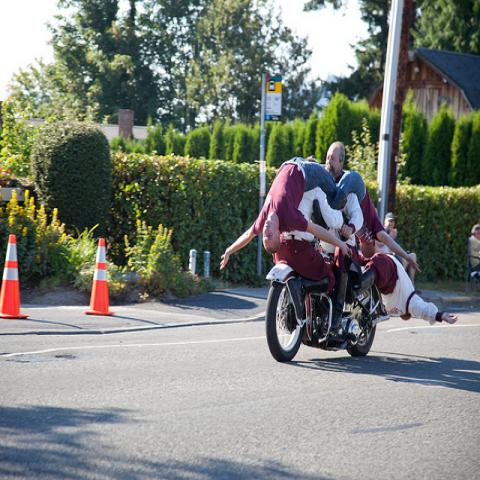motorcycle: (265, 262, 389, 362)
